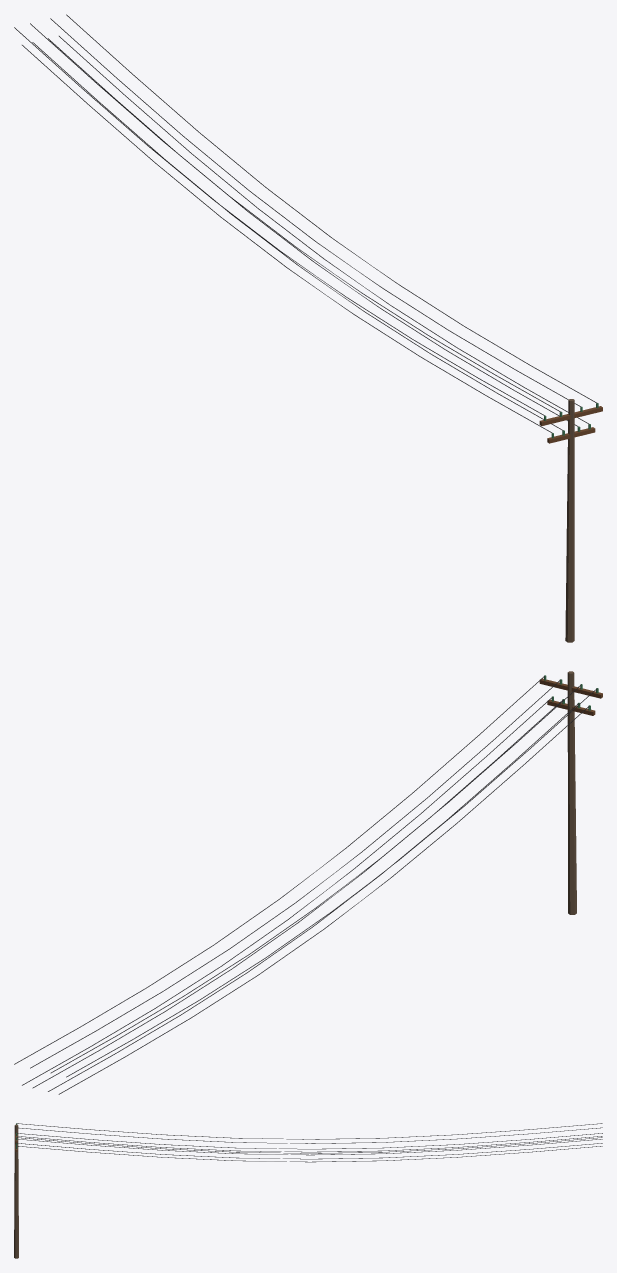
File: SM_TelegraphSpan_30m.fbx
3 renders of one model, top to bottom at view 1: azimuth 30°, elevation 25°; view 2: azimuth 150°, elevation 25°; view 3: azimuth 270°, elevation 25°, orthographic. The views are drawn at different scales.
Parts seen in each view (by area): view 1: TelegraphSpan_30m; view 2: TelegraphSpan_30m; view 3: TelegraphSpan_30m.
Boxes of the visible parts, x1,y1,x2,y2 form: TelegraphSpan_30m: [14, 14, 602, 642]; TelegraphSpan_30m: [14, 671, 602, 1094]; TelegraphSpan_30m: [14, 1123, 602, 1258].
Bounding box in the file's own units: 200 × 3013 × 750.
